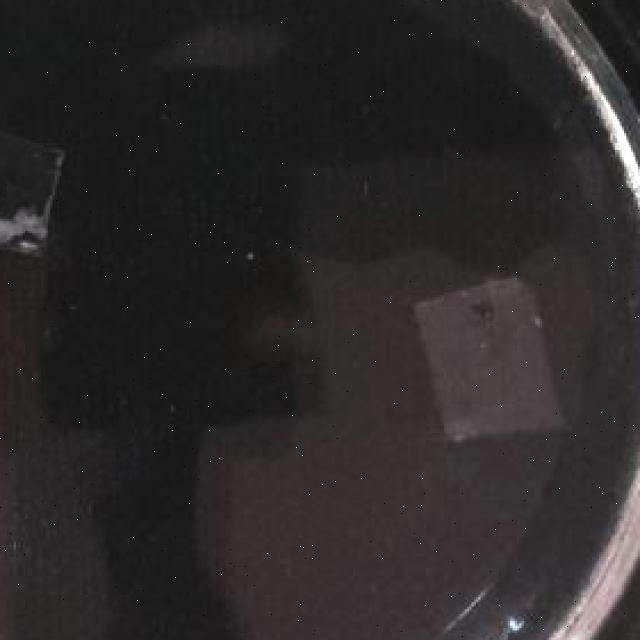Microplastic: (406, 266, 576, 449), (0, 107, 71, 267)
